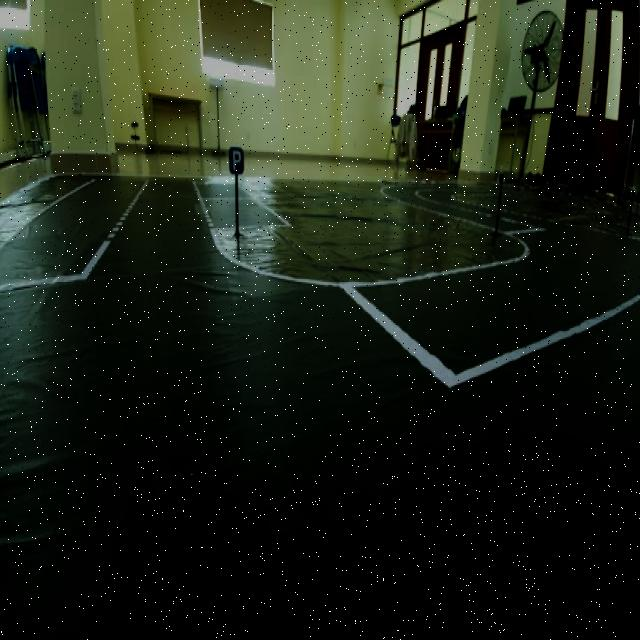parking: (224, 143, 247, 180)
